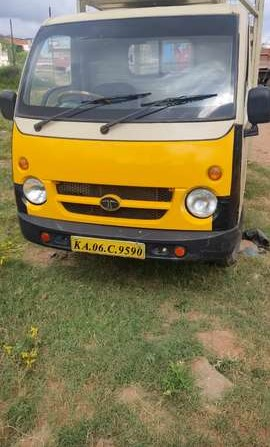KA06C9590: (70, 236, 144, 261)
